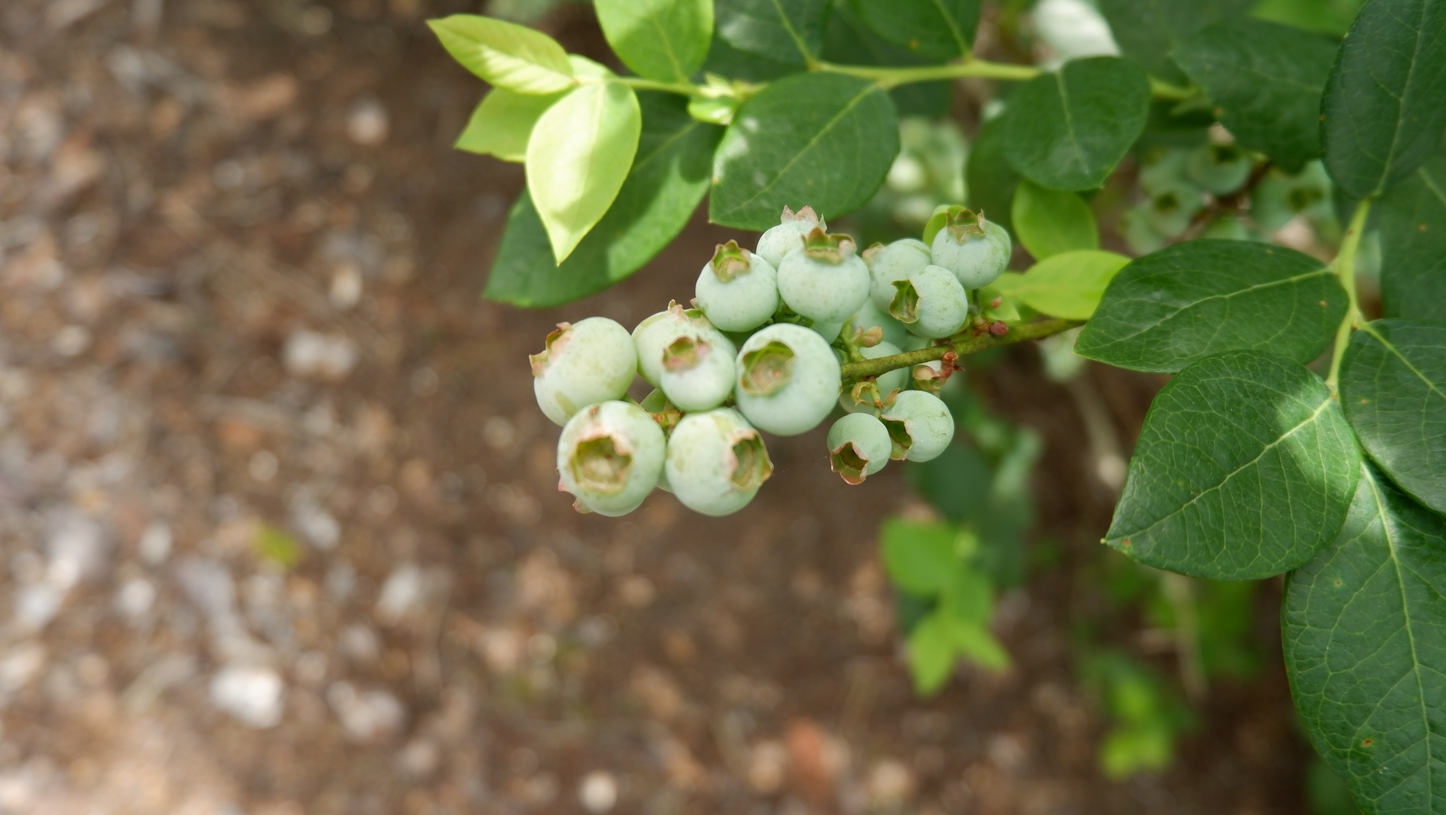Immature: (556, 400, 666, 517), (734, 323, 843, 437), (528, 315, 637, 428), (663, 405, 773, 516), (631, 299, 737, 389), (775, 227, 870, 323), (695, 239, 781, 333), (931, 208, 1011, 291), (660, 333, 736, 412), (889, 265, 968, 339), (838, 341, 910, 419), (878, 389, 954, 462), (861, 238, 931, 314), (756, 203, 827, 270), (827, 412, 891, 485), (640, 389, 684, 492), (771, 294, 843, 344), (849, 295, 908, 350), (901, 330, 942, 371)
